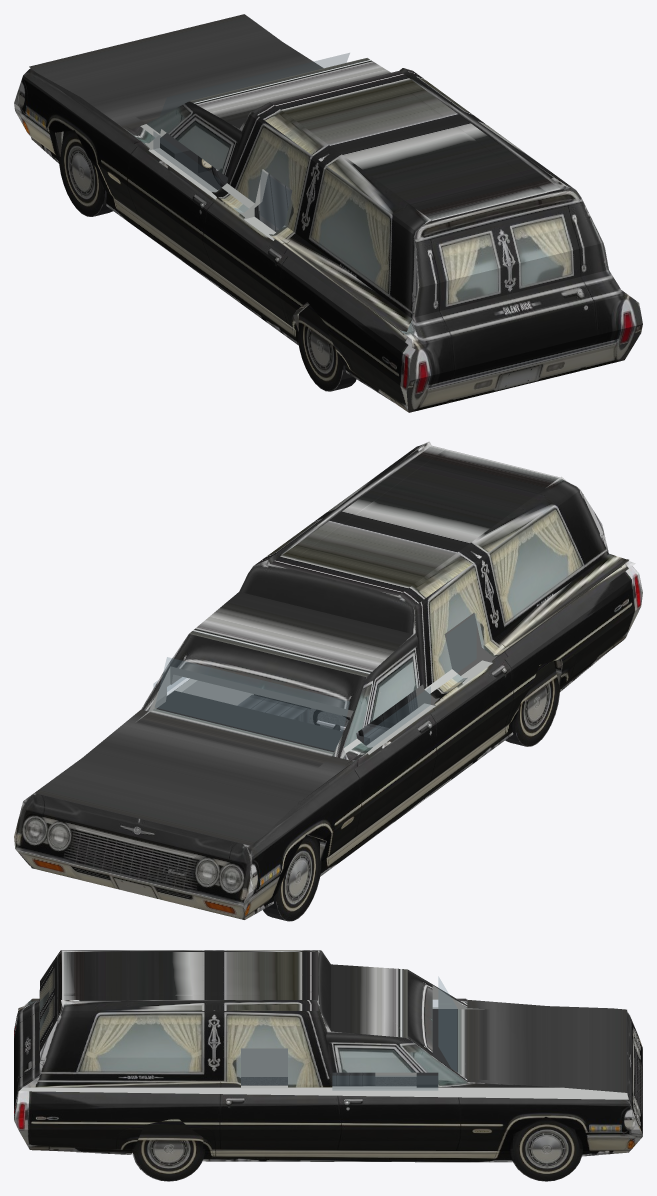
Rendered from hearse.glb.
The picture shows the model from 3 angles, top to bottom: view 1: azimuth 30°, elevation 25°; view 2: azimuth 150°, elevation 25°; view 3: azimuth 270°, elevation 25°; orthographic projection. The views are drawn at different scales.
Visible parts, largest first — view 1: hearse, hearse_cabin, wheel_BL, wheel_FL; view 2: hearse, hearse_cabin, wheel_FL, wheel_BL; view 3: hearse, hearse_cabin, wheel_BR, wheel_FR.
Boxes of the visible parts, x1,y1,x2,y2 form: hearse: (14, 14, 642, 412); hearse_cabin: (153, 53, 349, 232); wheel_BL: (297, 305, 356, 391); wheel_FL: (58, 130, 112, 216); hearse: (14, 441, 642, 919); hearse_cabin: (153, 613, 476, 752); wheel_FL: (263, 835, 321, 921); wheel_BL: (505, 661, 560, 746); hearse: (14, 950, 642, 1162); hearse_cabin: (241, 977, 457, 1090); wheel_BR: (132, 1118, 205, 1181); wheel_FR: (509, 1117, 582, 1181).
Size of the model in its own units: 1.98 by 1.69 by 5.79.
Materials: 11 (4 with a texture image).
